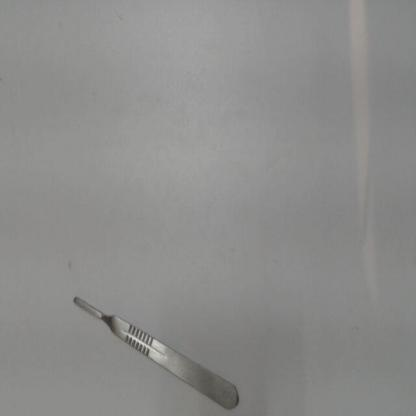No.4 BP Handle: (70, 290, 242, 414)
